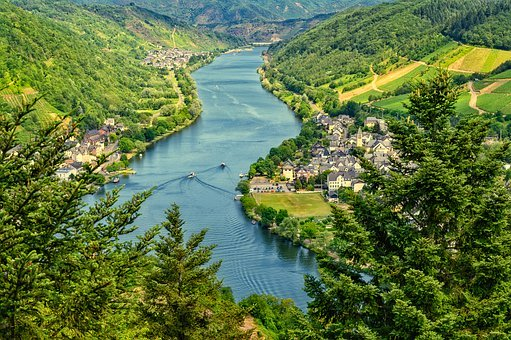forest: (3, 2, 503, 340)
